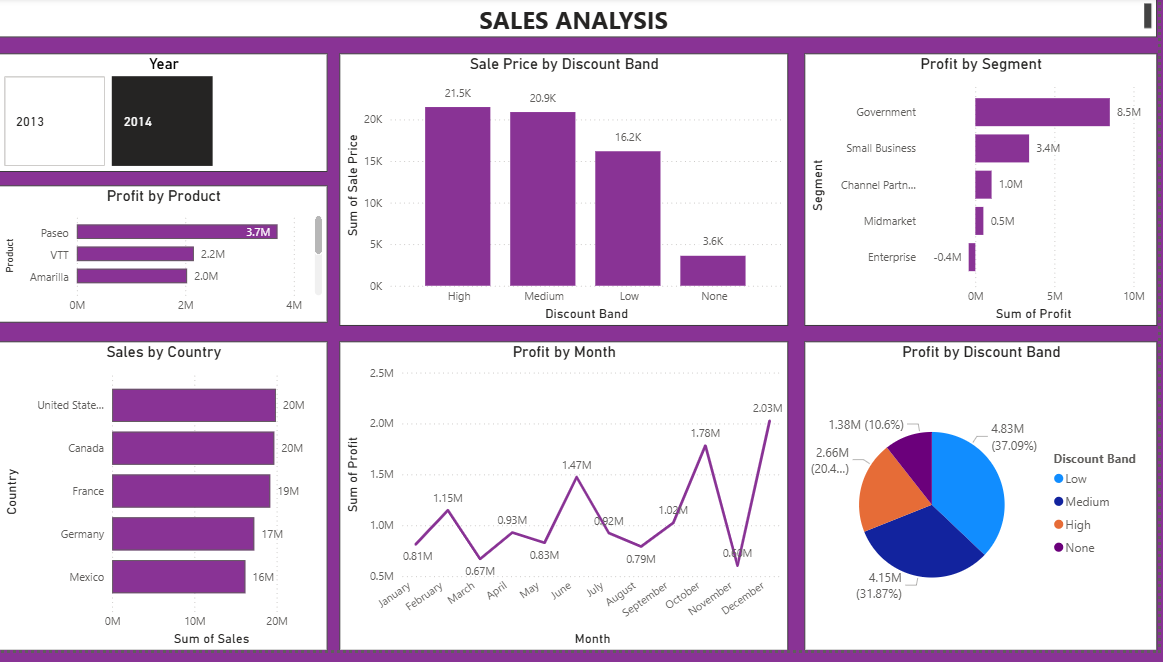

The dashboard page shown, as its layout file describes it:
{"tool":"powerbi","page":{"name":"Dashboard","canvas":[1280,720],"ordinal":0},"visuals":[{"type":"pieChart","title":"Profit by Discount Band","fields":{"Category":["financials (2).Discount Band"],"Y":["Sum(financials (2).Profit)"]},"box":[889.5,379.3,389.3,341.2],"z":0},{"type":"lineChart","title":"Profit by Month","fields":{"Category":["financials (2).Date.Variation.Date Hierarchy.Month"],"Y":["Sum(financials (2).Profit)"]},"box":[376,379.3,495.3,341.2],"z":1000},{"type":"barChart","title":"Sales by Country","fields":{"Category":["financials (2).Country"],"Y":["Sum(financials (2). Sales)"]},"box":[0,379.3,362.8,341.2],"z":2000},{"type":"barChart","title":"Profit by Product","fields":{"Category":["financials (2).Product"],"Y":["Sum(financials (2).Profit)"]},"box":[0,207.9,362.8,151.2],"z":3000},{"type":"lineStackedColumnComboChart","title":"Sale Price by Discount Band","fields":{"Category":["financials (2).Discount Band"],"Y":["Sum(financials (2).Sale Price)"]},"box":[376.1,60.5,495.1,300.5],"z":4000},{"type":"barChart","title":"Profit by Segment","fields":{"Category":["financials (2).Segment"],"Y":["Sum(financials (2).Profit)"]},"box":[890.1,60.5,389.3,300.5],"z":5000},{"type":"textbox","box":[0,0,1278.8,43.1],"z":6000},{"type":"advancedSlicerVisual","fields":{"Values":["financials (2).Date.Variation.Date Hierarchy.Year"]},"box":[0,60.5,362.8,130.4],"z":7000}]}

Visuals, with their boxes in screenshot pixels (x1, y1, x2, y2), scaled from the page's 1280x720 canvas onto the 1163x662 screenshot:
"Profit by Discount Band" pieChart: (808,349,1162,661)
"Profit by Month" lineChart: (342,349,792,661)
"Sales by Country" barChart: (0,349,330,661)
"Profit by Product" barChart: (0,191,330,330)
"Sale Price by Discount Band" lineStackedColumnComboChart: (342,56,792,332)
"Profit by Segment" barChart: (809,56,1162,332)
textbox: (0,0,1162,40)
advancedSlicerVisual - financials (2).Date.Variation.Date Hierarchy.Year: (0,56,330,176)
